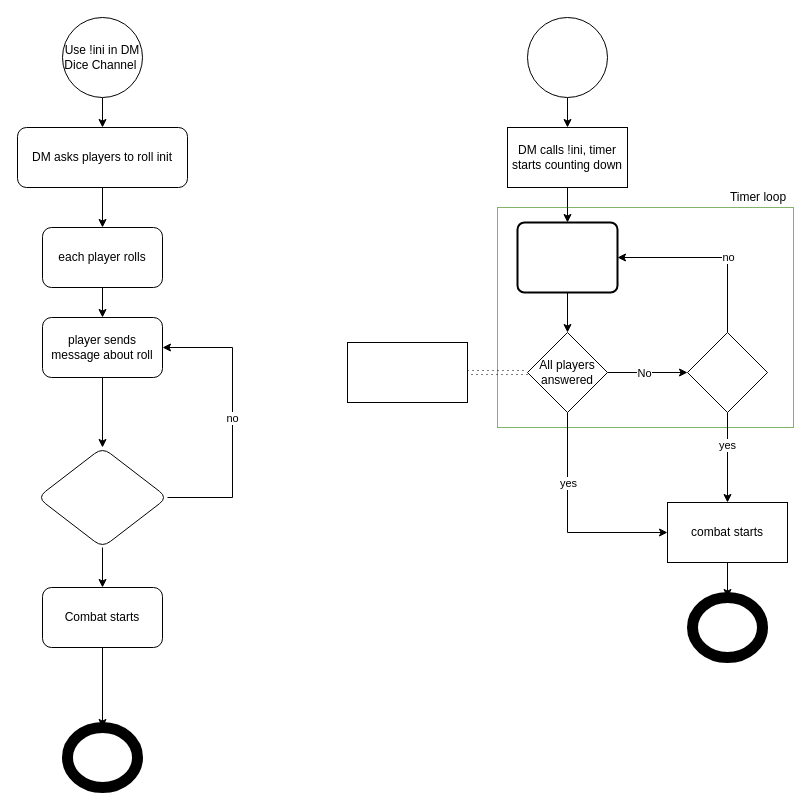
This 811x810 diagram has some shape labels left out. Each missing label, with the centre of its shape:
"countdown is over?" goes at point (727, 372).
"DM checks if all players rolled" goes at point (102, 497).
"Needs a list of players and a collection of history after timer started" goes at point (407, 372).
"Player sends dice result in chat" goes at point (567, 257).
